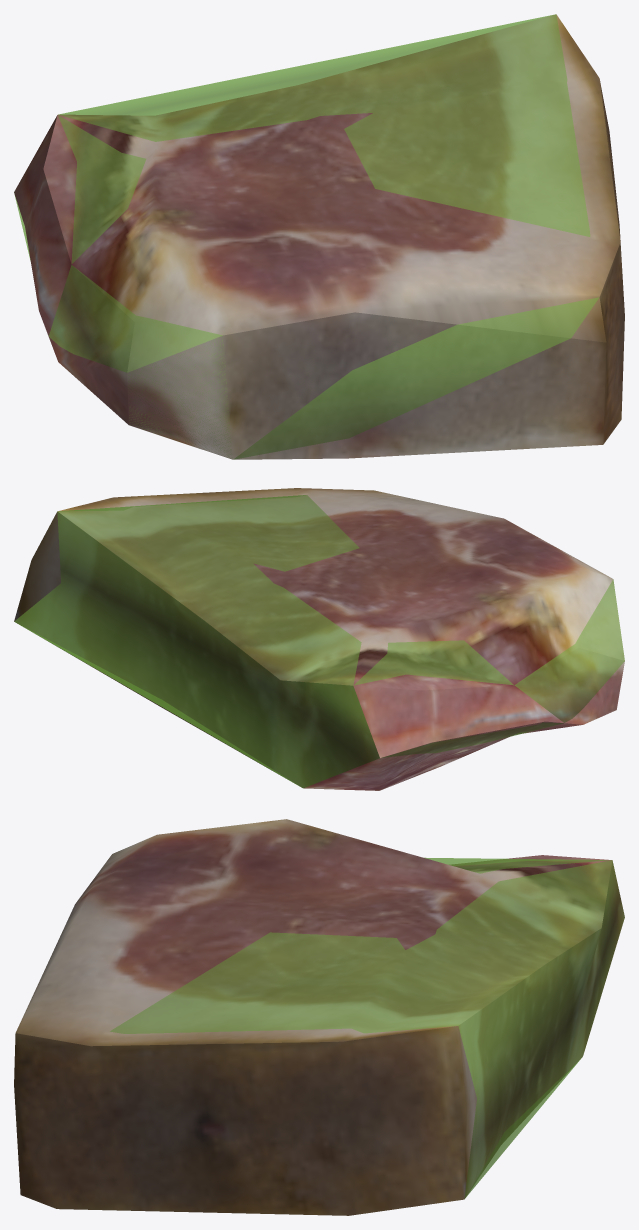
Rendered from pg_Jamon_03_a.fbx.
The picture shows the model from 3 angles, top to bottom: view 1: azimuth 30°, elevation 25°; view 2: azimuth 150°, elevation 25°; view 3: azimuth 270°, elevation 25°; orthographic projection. The views are drawn at different scales.
Parts seen in each view (by area): view 1: pg_Jamon_03_a_LOD0, pg_Jamon_03_a_col; view 2: pg_Jamon_03_a_LOD0, pg_Jamon_03_a_col; view 3: pg_Jamon_03_a_LOD0, pg_Jamon_03_a_col.
Part boxes in pixels (x1,y1,x2,y2): pg_Jamon_03_a_LOD0: (14,14,624,459); pg_Jamon_03_a_col: (14,14,598,459); pg_Jamon_03_a_LOD0: (14,488,624,790); pg_Jamon_03_a_col: (14,495,624,788); pg_Jamon_03_a_LOD0: (14,819,624,1215); pg_Jamon_03_a_col: (110,857,624,1198).
Size of what is drawn, in the model's own units: 13.05 by 4.88 by 10.73.
